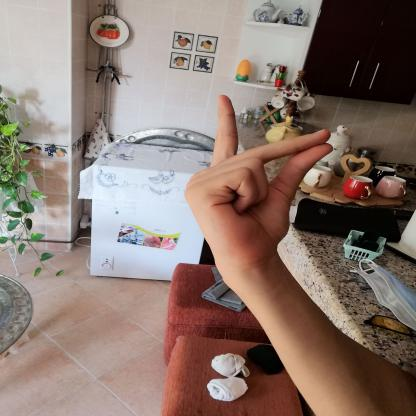TAA: (172, 86, 346, 283)
